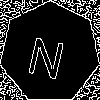N: (25, 27, 70, 80)
